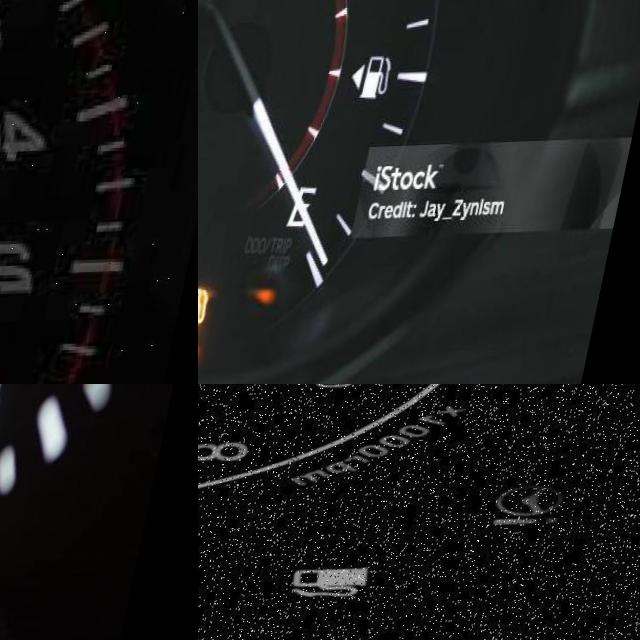Electronic Power Steering: (481, 476, 591, 552)
